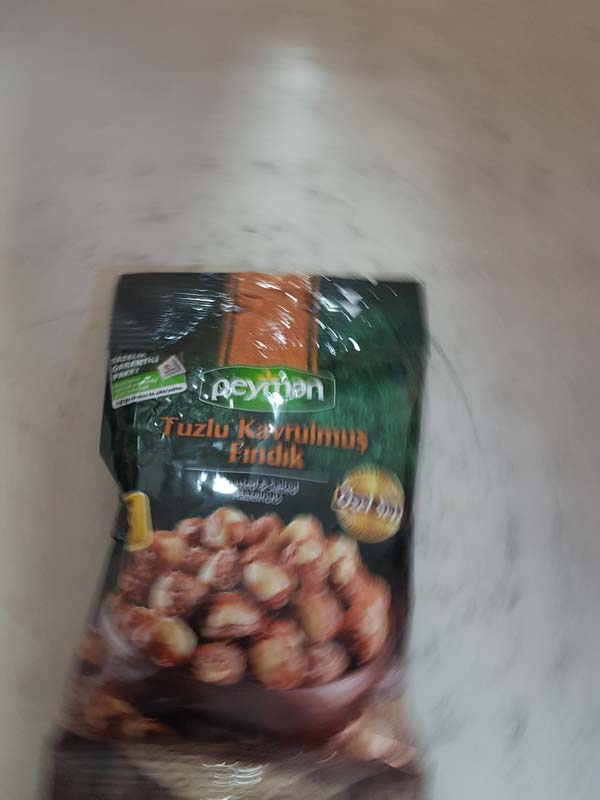peysankavrulmusfindik: (38, 270, 436, 800)
